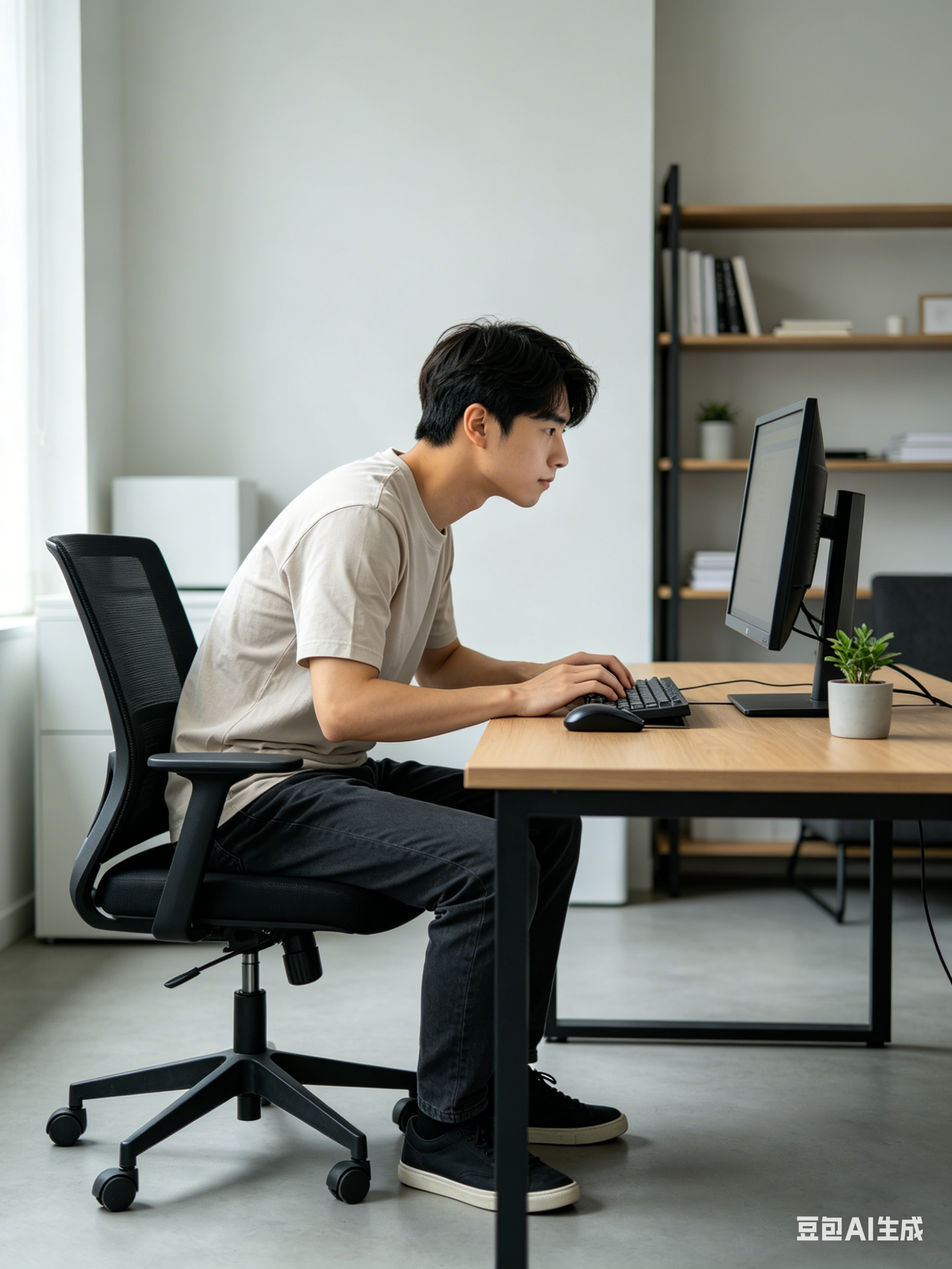sitting_bad: (167, 333, 654, 1168)
